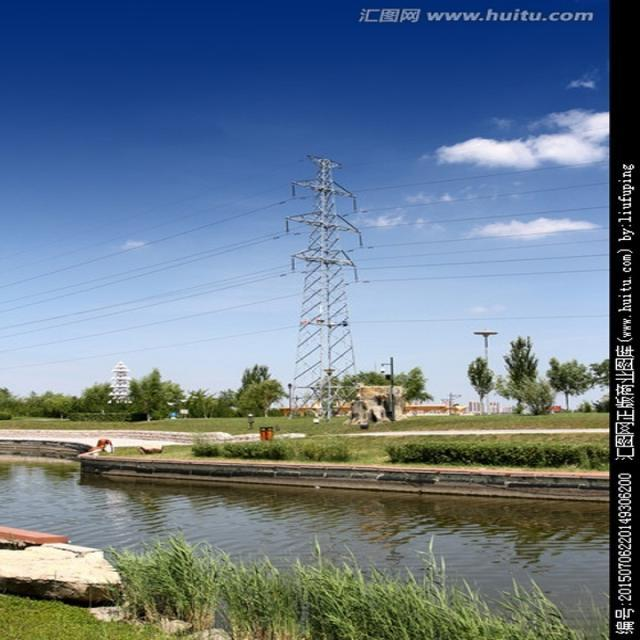non-critical vegetation: (260, 135, 378, 417)
